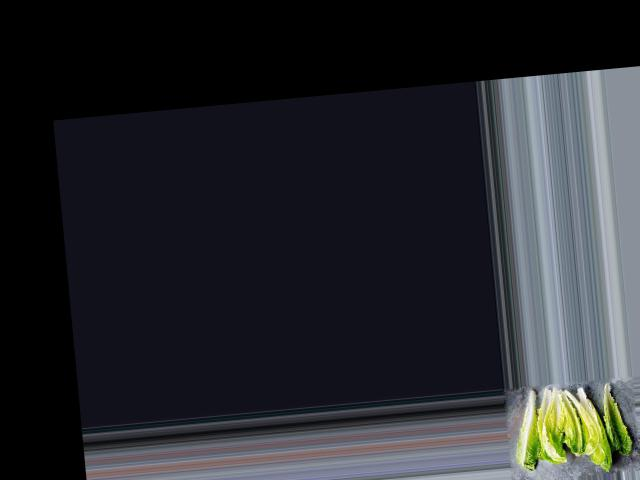lettuce: (599, 378, 630, 456)
